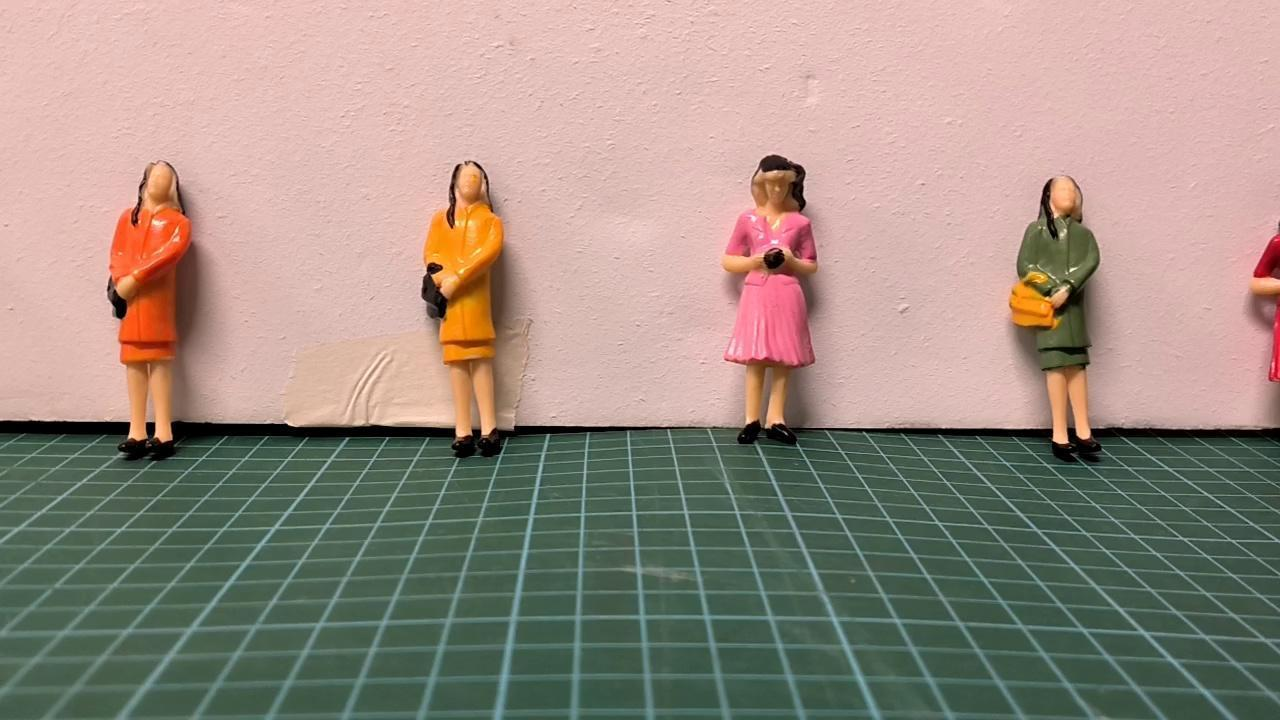human: (725, 154, 819, 442), (1011, 176, 1100, 456), (109, 160, 191, 458), (425, 162, 507, 458)
